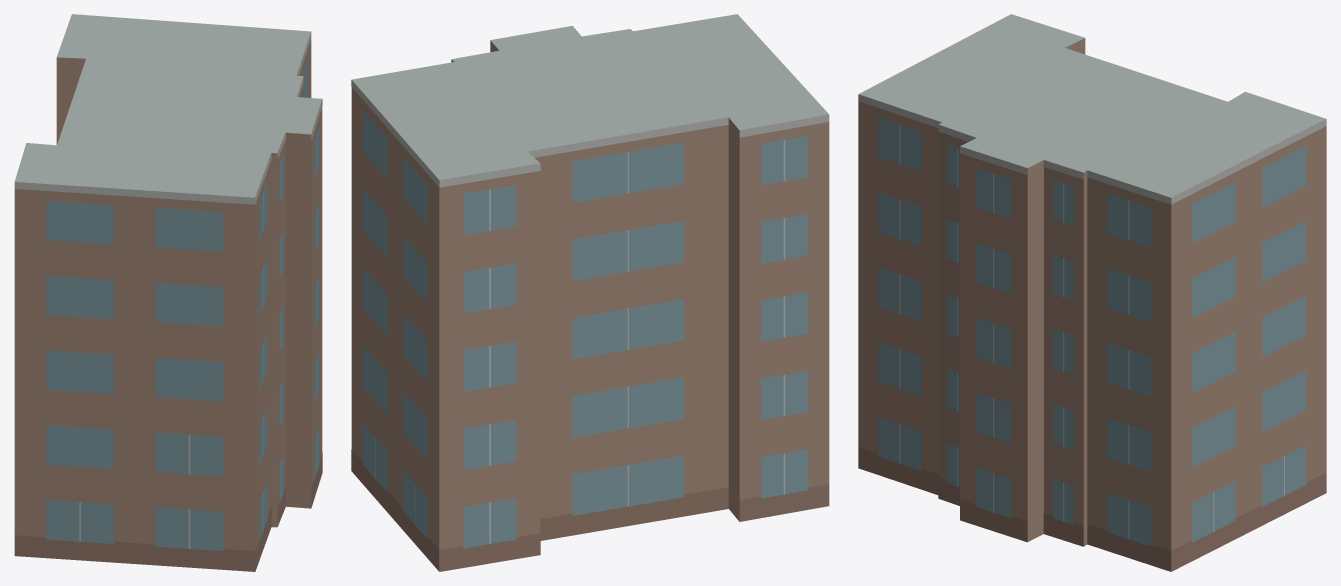
The model's file is survey-upis-32907434.glb.
The picture shows the model from 3 angles, left to right: view 1: azimuth 30°, elevation 25°; view 2: azimuth 150°, elevation 25°; view 3: azimuth 270°, elevation 25°; orthographic projection. The views are drawn at different scales.
Visible parts, largest first — view 1: survey-upis-32907434.tmp; view 2: survey-upis-32907434.tmp; view 3: survey-upis-32907434.tmp.
Boxes of the visible parts, x1,y1,x2,y2 form: survey-upis-32907434.tmp: (14, 14, 322, 571); survey-upis-32907434.tmp: (351, 14, 829, 571); survey-upis-32907434.tmp: (858, 14, 1326, 571).
Bounding box in the file's own units: 13.81 × 13.1 × 14.87.
